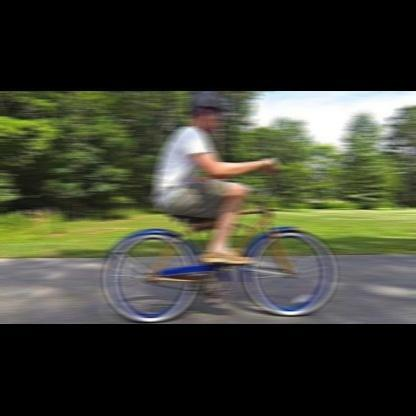Bicycle: (78, 151, 355, 327)
